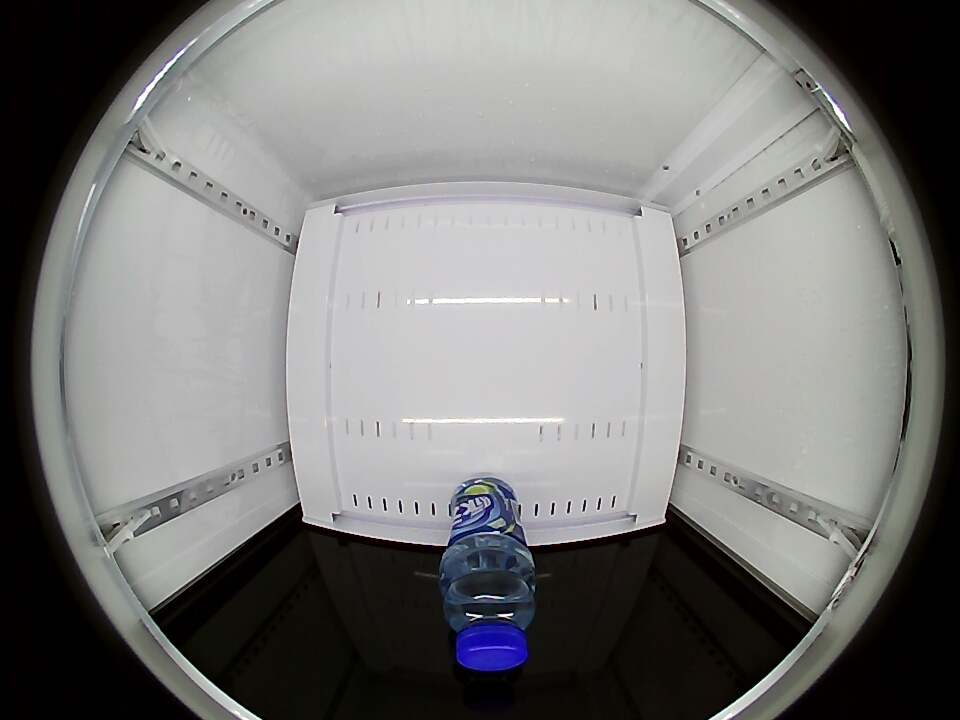maidong: (441, 561, 536, 673)
